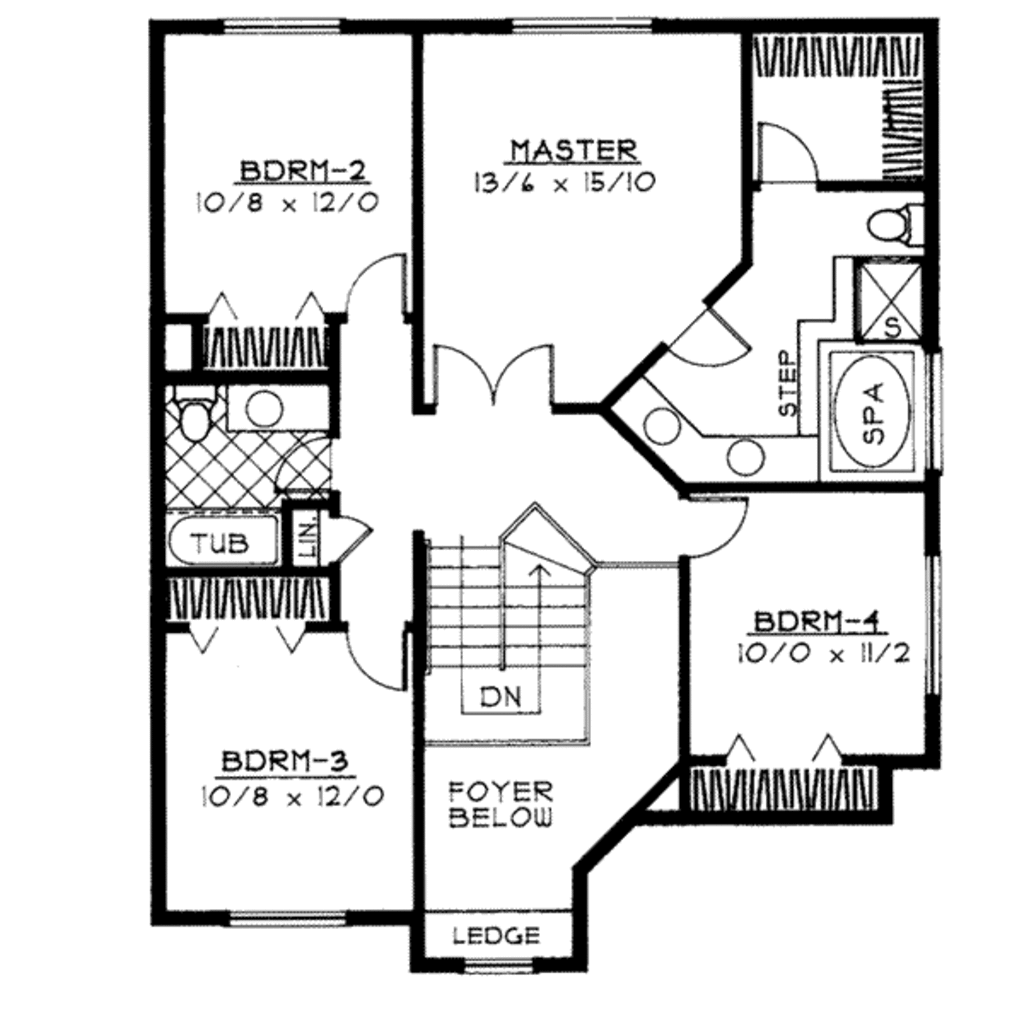door: (421, 334, 567, 426), (323, 235, 431, 318), (342, 611, 423, 695), (658, 300, 756, 367), (744, 124, 829, 189), (269, 430, 339, 502), (315, 511, 383, 575), (686, 497, 750, 564)
large_sink: (853, 194, 934, 257), (167, 383, 229, 448)
small_sink: (626, 397, 794, 480), (223, 380, 347, 438)
stairs: (421, 508, 598, 768)
tub: (826, 345, 910, 487), (156, 495, 282, 573)
window: (215, 1, 364, 45), (507, 10, 661, 38), (915, 554, 944, 700), (921, 349, 947, 468), (217, 905, 352, 924), (456, 957, 536, 980)
